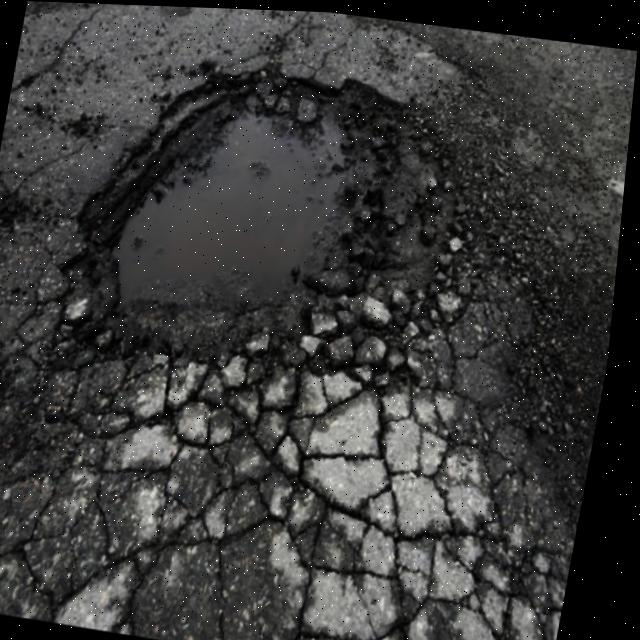Pothole: (55, 45, 442, 381)
